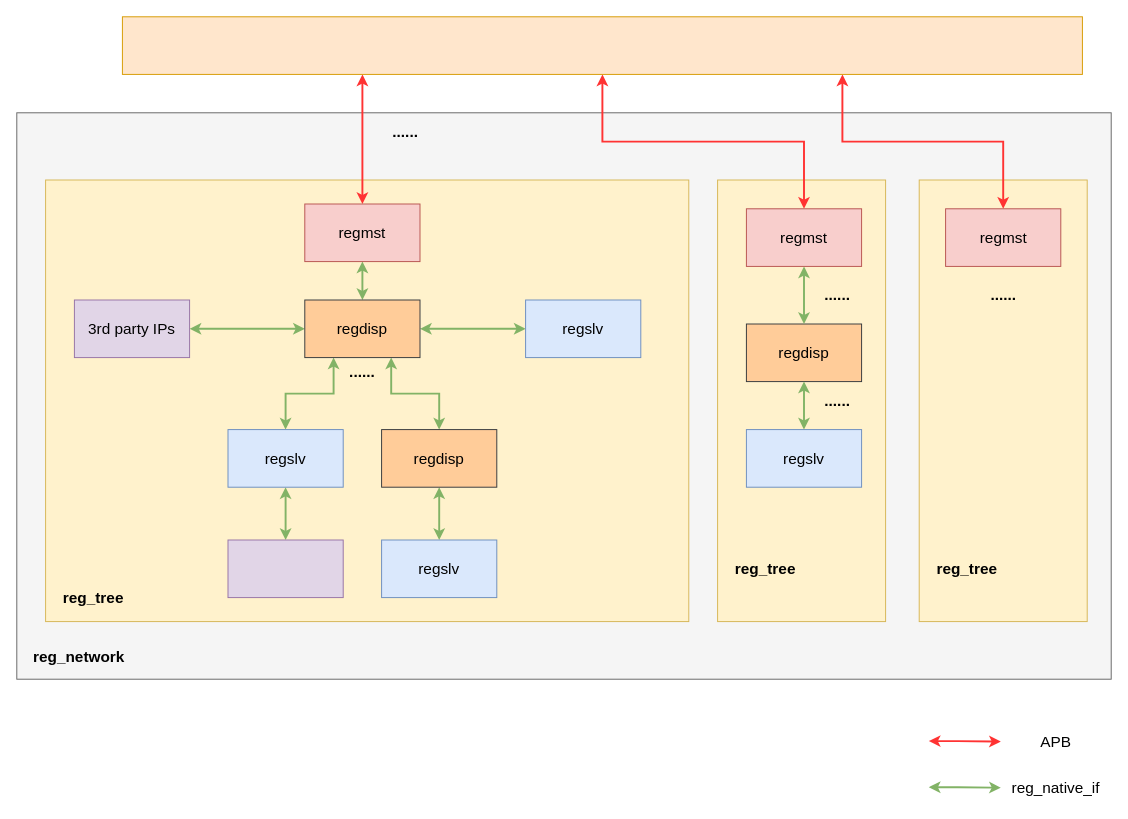
The diagram is 1128 pixels wide and 819 high, and some of its shapes have lost their labels. Each missing label, with the centre of its shape:
ARM NIC-450 Non-coherent Interconnect: (601,45)
memory: (285,568)
